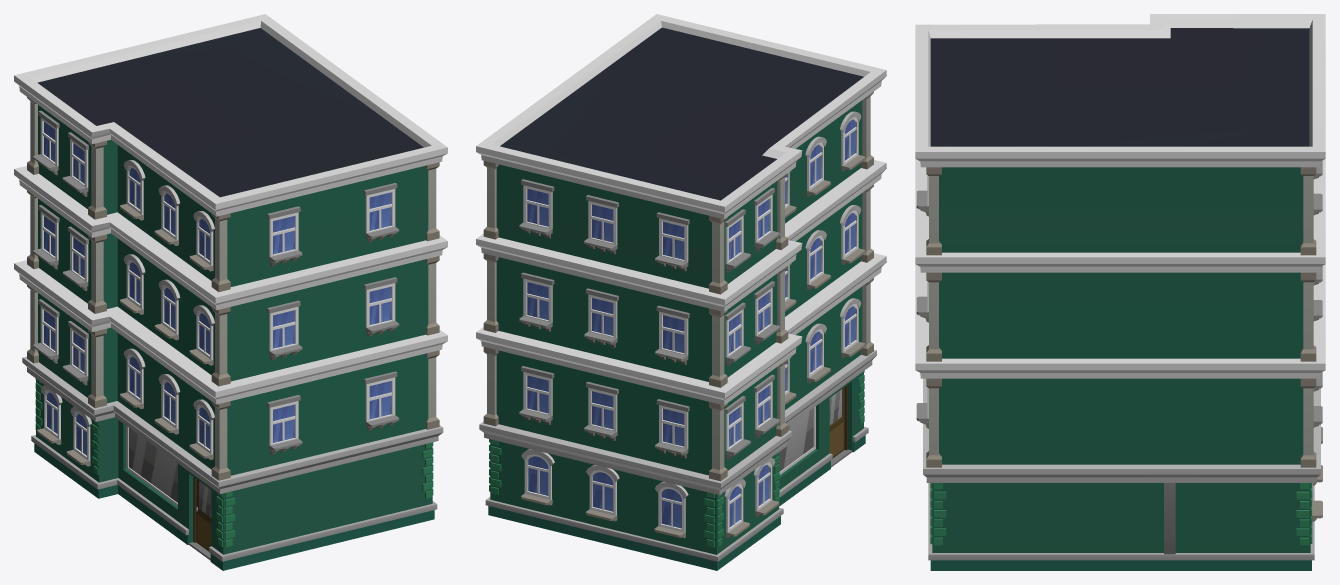
File: Building_1_4_E.fbx
3 views of the same model, side by side, from view 1: azimuth 30°, elevation 25°; view 2: azimuth 150°, elevation 25°; view 3: azimuth 270°, elevation 25° (orthographic). The views are drawn at different scales.
Parts seen in each view (by area): view 1: Building_1_4_E; view 2: Building_1_4_E; view 3: Building_1_4_E.
Part boxes in pixels (box(x1,y1,x2,y2)): Building_1_4_E: box(14, 14, 447, 570); Building_1_4_E: box(476, 14, 886, 570); Building_1_4_E: box(915, 14, 1325, 570).
Bounding box in the file's own units: 841 × 1201 × 1057.
